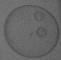small: (36, 27, 46, 37), (33, 12, 43, 20)
